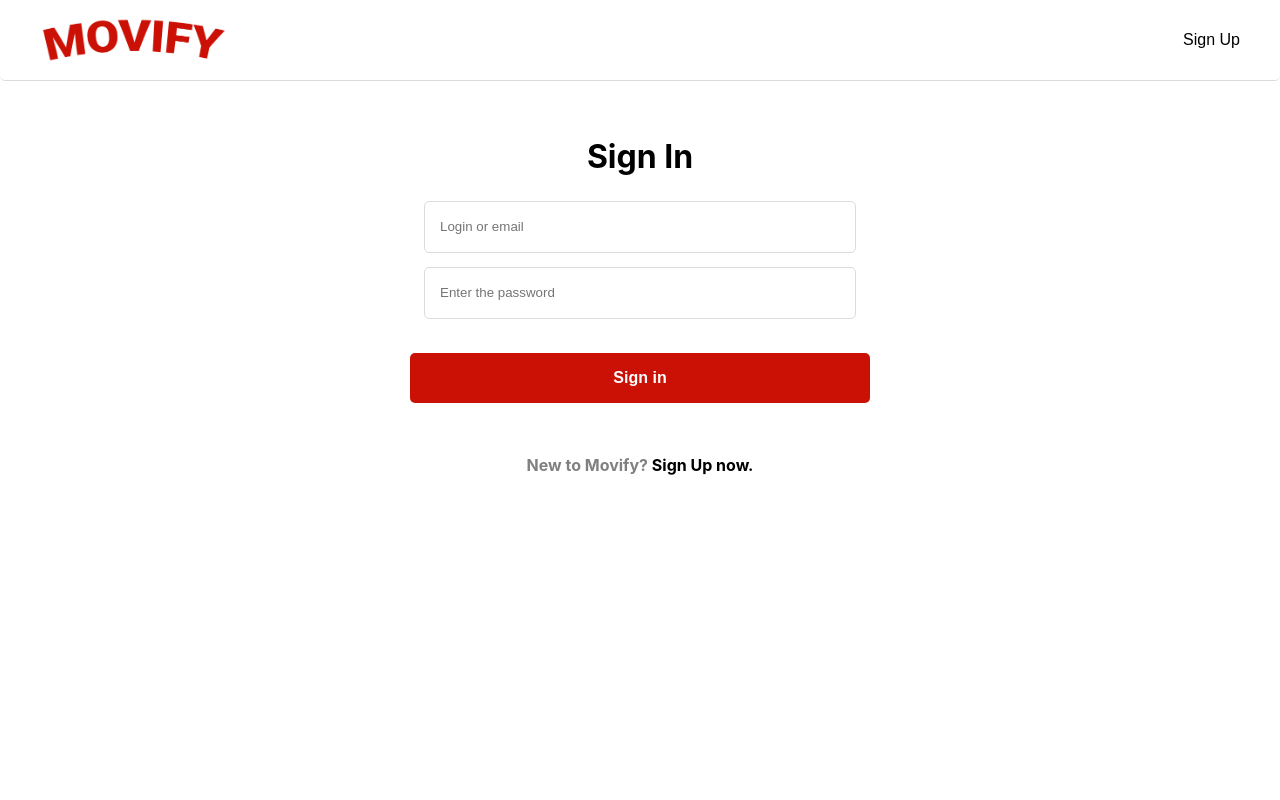
Scenario: Login Component › displays a loading indicator while logging in
This screenshot has width=1280, height=800.
Type "testuser" into the field with placeholder "Login or email".
click(640, 227); type("testuser")  # box [424, 201, 856, 253]
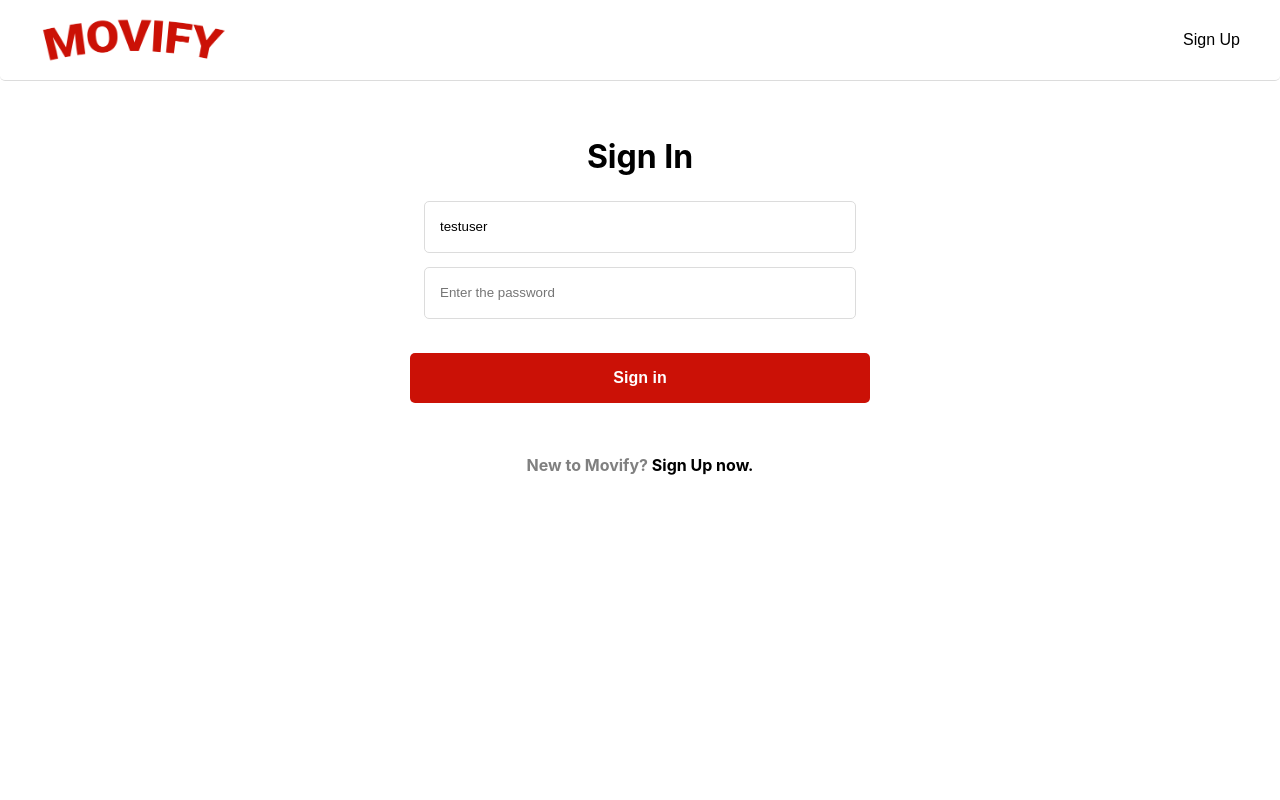
Type "password123" into the password field with placeholder "Enter the password".
click(640, 293); type("password123")  # box [424, 267, 856, 319]
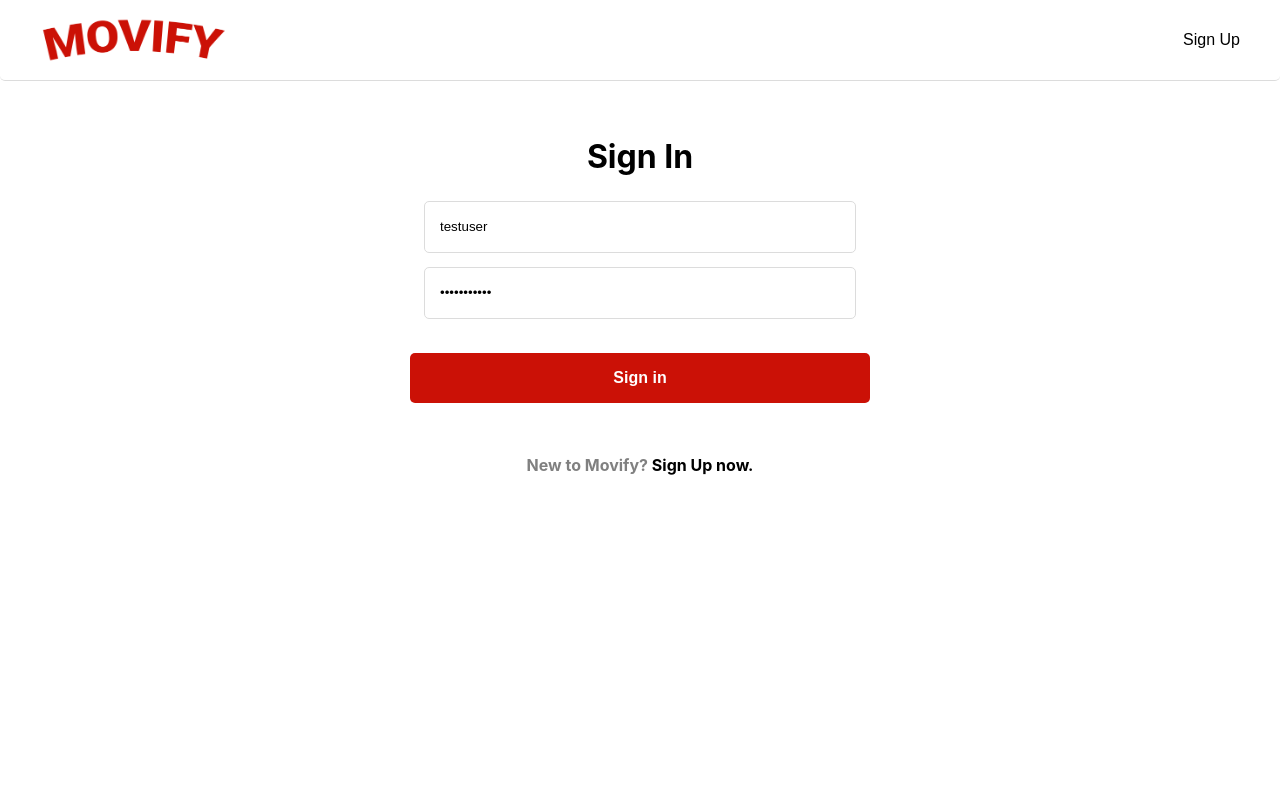
Click the button "Sign in".
click(640, 378)  # box [410, 353, 870, 403]
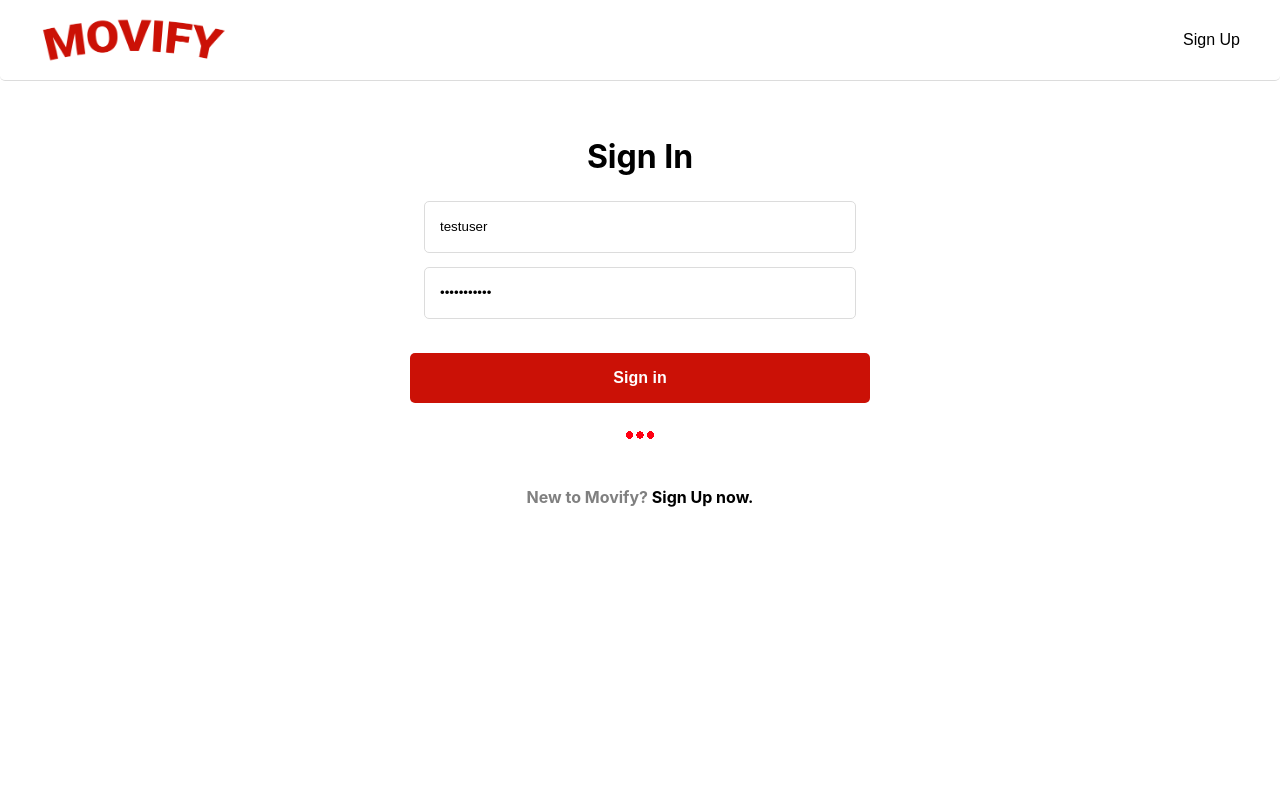
Check: the 2nd picture is shown, box [624, 419, 656, 451]
